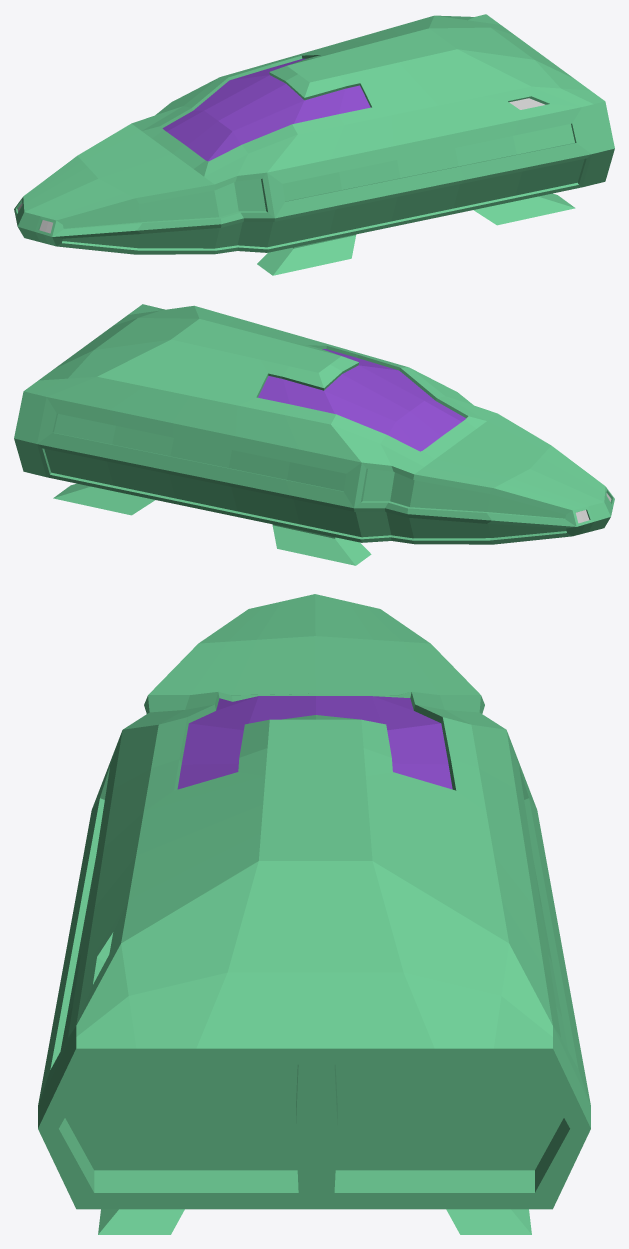
Rendered from nave.fbx.
The picture shows the model from 3 angles, top to bottom: view 1: azimuth 30°, elevation 25°; view 2: azimuth 150°, elevation 25°; view 3: azimuth 270°, elevation 25°; orthographic projection. The views are drawn at different scales.
Visible parts, largest first — view 1: Cube (×3); view 2: Cube (×2); view 3: Cube (×2).
Boxes of the visible parts, x1,y1,x2,y2 form: Cube (×3): (14,14,614,275); Cube (×2): (14,304,614,565); Cube (×2): (38,594,590,1234).
Bounding box in the file's own units: 834 × 224 × 378.
